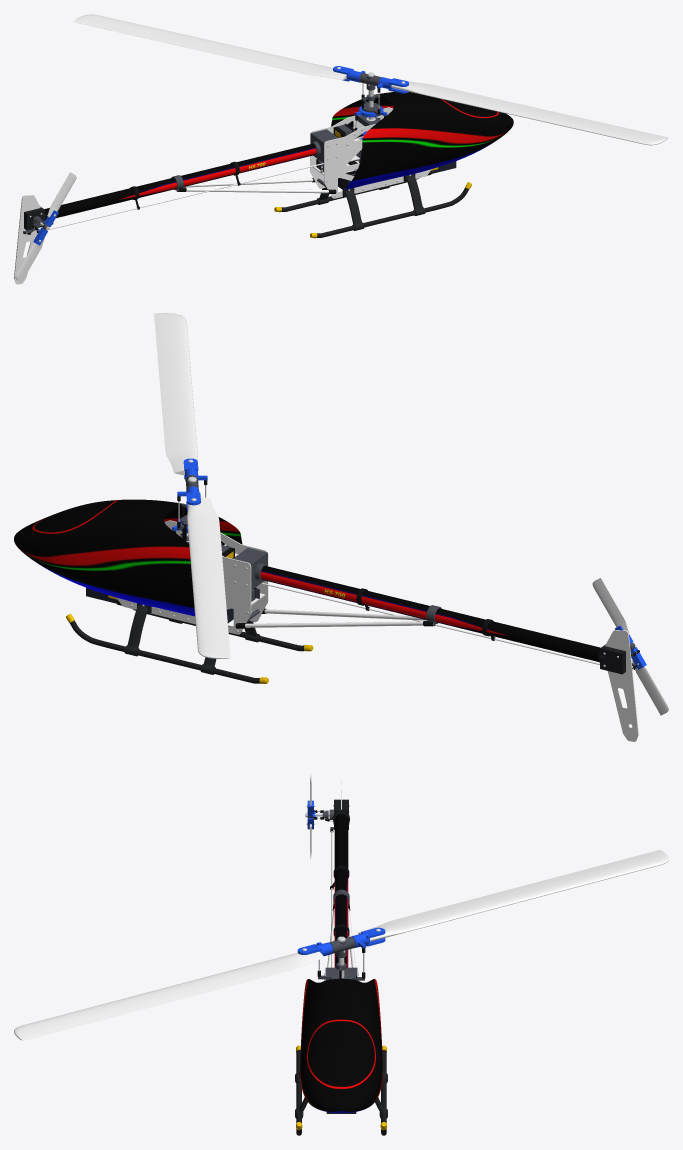
3 views of the same model, one above another, from view 1: azimuth 30°, elevation 25°; view 2: azimuth 150°, elevation 25°; view 3: azimuth 270°, elevation 25° (orthographic). The views are drawn at different scales.
Parts seen in each view (by area): view 1: Carenado, Pala_Principal_A, Pala_Principal_B, Botalon_Carbono, Chasis_Placas_Carbono, Tren_de_Aterrizaje, Rotor_Cabeza, Soportes_Botalon, Aleta_Vertical, Servo_Cola_y_Varilla, Chasis_Bloques_Aluminio, Caja_Cola (+1 smaller); view 2: Carenado, Pala_Principal_A, Botalon_Carbono, Pala_Principal_B, Chasis_Placas_Carbono, Tren_de_Aterrizaje, Soportes_Botalon, Aleta_Vertical, Rotor_Cabeza, Servo_Cola_y_Varilla, Chasis_Bloques_Aluminio, Caja_Cola (+1 smaller); view 3: Carenado, Pala_Principal_B, Pala_Principal_A, Botalon_Carbono, Rotor_Cabeza, Tren_de_Aterrizaje.
Part boxes in pixels (bbox=[...]): Carenado: bbox=[331, 92, 513, 189]; Pala_Principal_A: bbox=[73, 14, 346, 79]; Pala_Principal_B: bbox=[391, 80, 668, 145]; Botalon_Carbono: bbox=[44, 143, 316, 218]; Chasis_Placas_Carbono: bbox=[310, 107, 431, 198]; Tren_de_Aterrizaje: bbox=[274, 173, 471, 238]; Rotor_Cabeza: bbox=[333, 66, 408, 115]; Soportes_Botalon: bbox=[171, 175, 336, 193]; Aleta_Vertical: bbox=[14, 195, 40, 284]; Servo_Cola_y_Varilla: bbox=[36, 159, 323, 233]; Chasis_Bloques_Aluminio: bbox=[310, 115, 380, 187]; Caja_Cola: bbox=[23, 206, 49, 234]; Carenado: bbox=[14, 499, 242, 616]; Pala_Principal_A: bbox=[187, 496, 230, 658]; Botalon_Carbono: bbox=[260, 566, 600, 661]; Pala_Principal_B: bbox=[154, 313, 197, 475]; Chasis_Placas_Carbono: bbox=[116, 520, 268, 634]; Tren_de_Aterrizaje: bbox=[66, 603, 313, 683]; Soportes_Botalon: bbox=[235, 605, 441, 628]; Aleta_Vertical: bbox=[605, 630, 638, 741]; Rotor_Cabeza: bbox=[177, 458, 207, 530]; Servo_Cola_y_Varilla: bbox=[251, 582, 599, 664]; Chasis_Bloques_Aluminio: bbox=[180, 532, 267, 621]; Caja_Cola: bbox=[599, 644, 636, 674]; Carenado: bbox=[300, 979, 382, 1112]; Pala_Principal_B: bbox=[14, 951, 324, 1040]; Pala_Principal_A: bbox=[358, 850, 668, 941]; Botalon_Carbono: bbox=[334, 814, 348, 967]; Rotor_Cabeza: bbox=[297, 927, 385, 980]; Tren_de_Aterrizaje: bbox=[295, 1045, 387, 1135].
Size of the model in its own units: 1.49 by 0.3623 by 1.33.
Materials: 18 (2 with a texture image).
